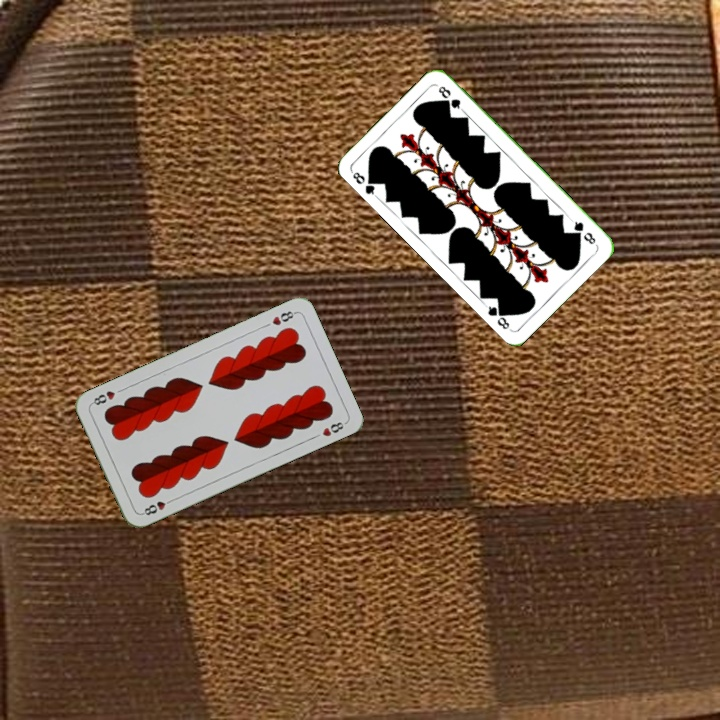G8: (348, 168, 380, 200), (567, 215, 598, 247)
H8: (138, 495, 176, 518), (268, 307, 299, 328)
